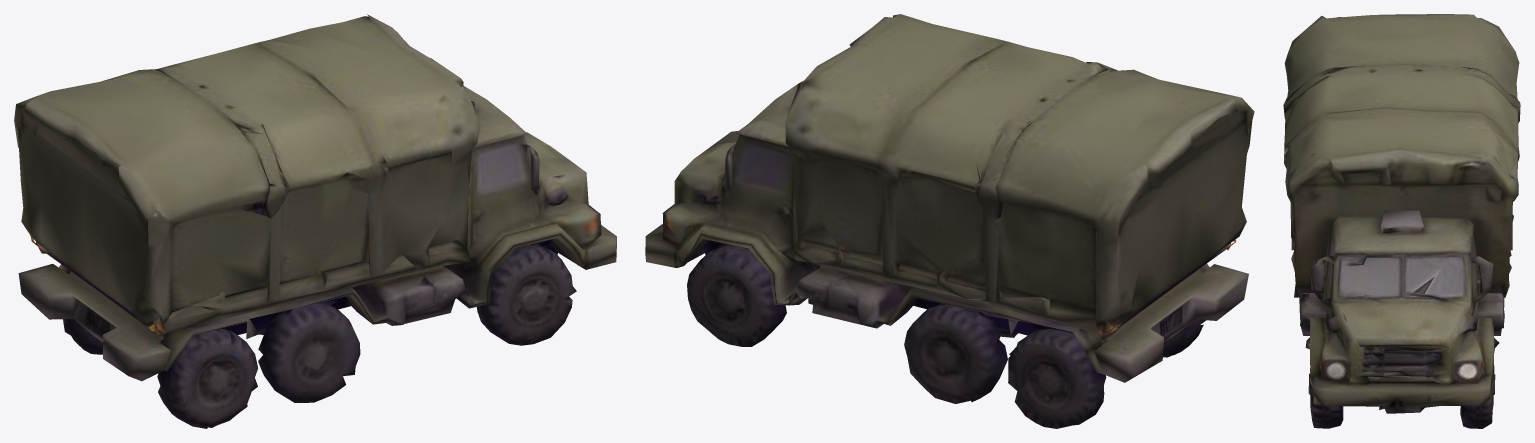
Rendered from truck.glb.
The picture shows the model from 3 angles, left to right: view 1: azimuth 30°, elevation 25°; view 2: azimuth 150°, elevation 25°; view 3: azimuth 270°, elevation 25°; orthographic projection. The views are drawn at different scales.
Parts seen in each view (by area): view 1: tripo_node_008bbcae-ebb3-44b4-95dd-9688f2fdb86d; view 2: tripo_node_008bbcae-ebb3-44b4-95dd-9688f2fdb86d; view 3: tripo_node_008bbcae-ebb3-44b4-95dd-9688f2fdb86d.
Part boxes in pixels (x1,y1,x2,y2): tripo_node_008bbcae-ebb3-44b4-95dd-9688f2fdb86d: (14,14,616,428); tripo_node_008bbcae-ebb3-44b4-95dd-9688f2fdb86d: (645,14,1254,428); tripo_node_008bbcae-ebb3-44b4-95dd-9688f2fdb86d: (1283,14,1520,428).
Size of the model in its own units: 1 by 0.5335 by 0.4705.
Materials: 1 (1 with a texture image).
